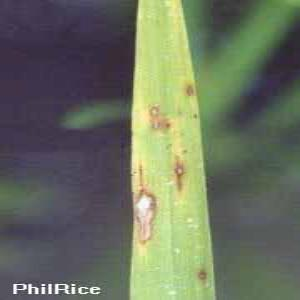1 RiceBlast: (127, 179, 166, 249), (135, 99, 167, 138), (164, 149, 196, 187), (174, 78, 200, 110)
